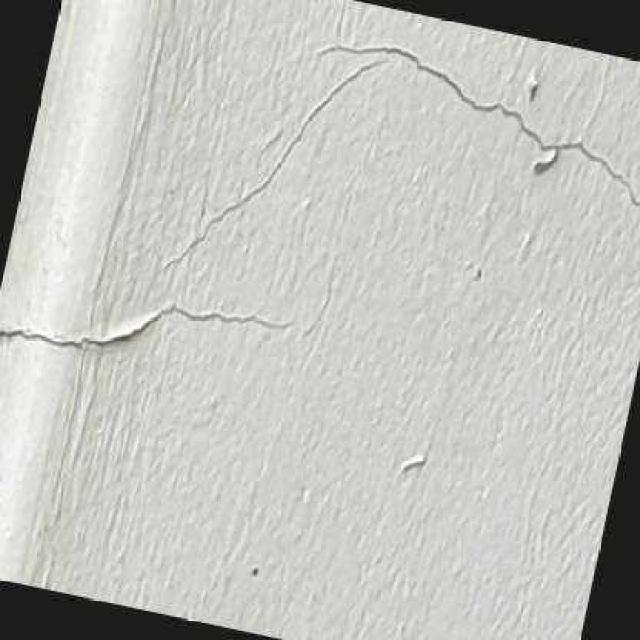D00: (177, 35, 640, 264), (0, 300, 274, 356)
